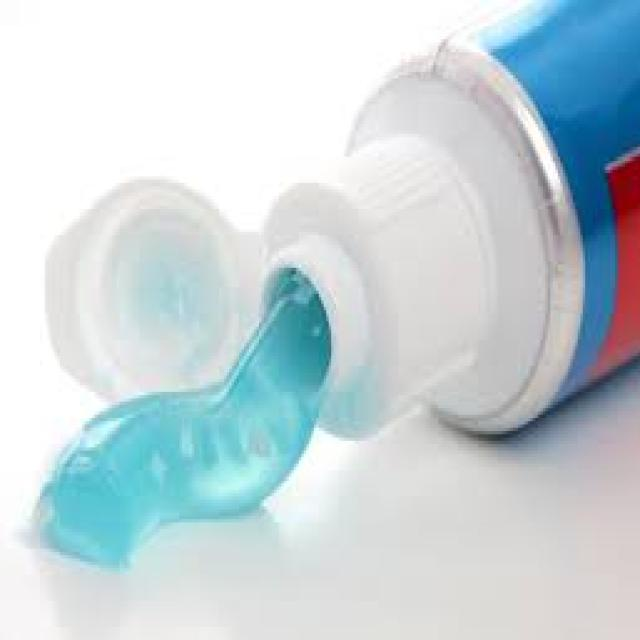toothpaste: (204, 13, 640, 421)
